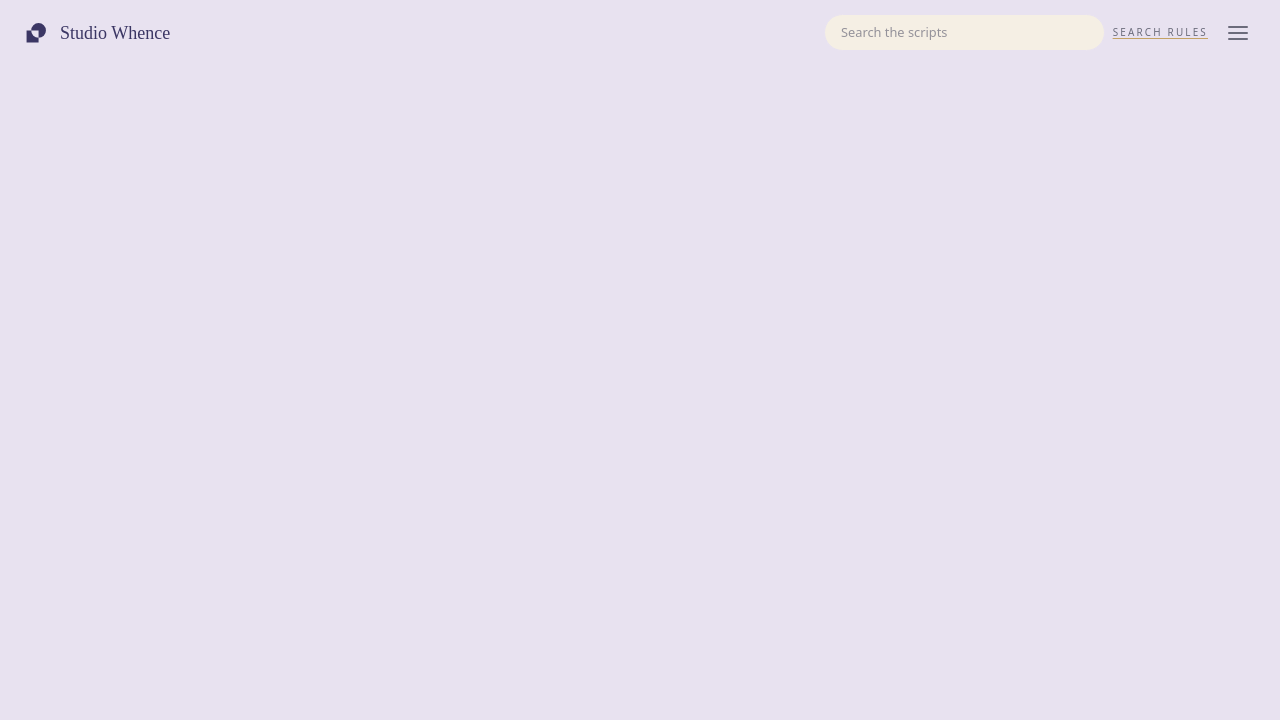
Test case: Topbar — open menu contents › clicking the hamburger reveals Home, Methodology and a link per content line
What coordinates should you click on to do the following:
click the button named "open menu"
I would click on:
 (1238, 33)
Its box is [1220,15,1256,51].
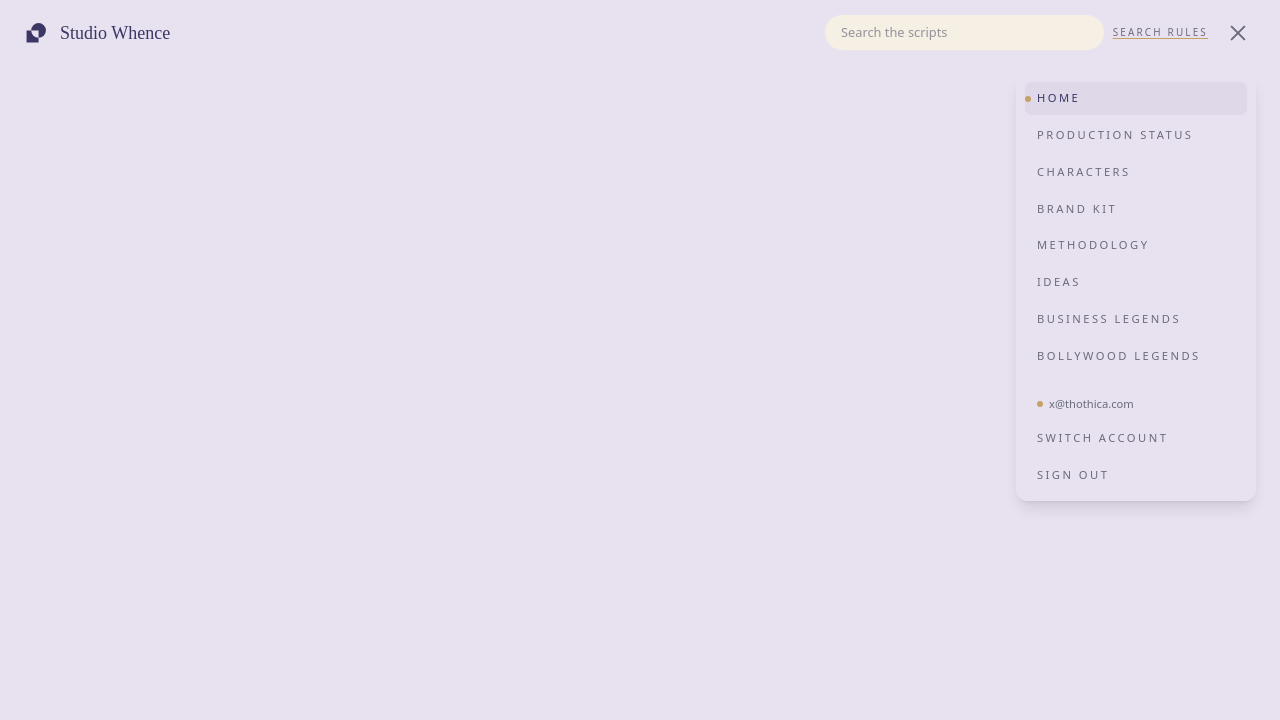
Expected: the link "Home" is shown, [1025,82,1247,115]
Expected: the link "Methodology" is shown, [1037,237,1150,252]
